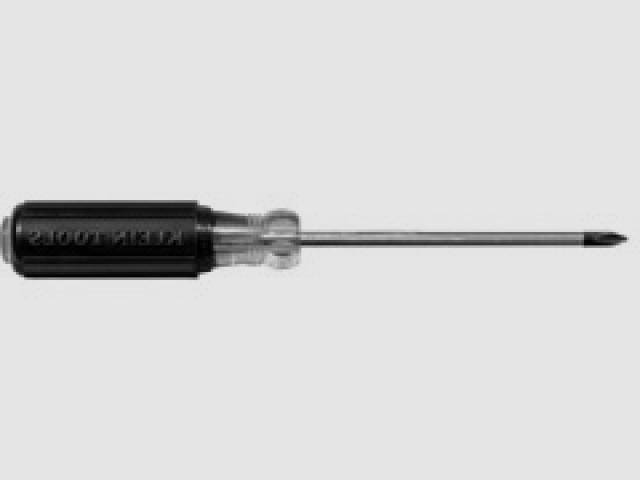Screwdriver: (0, 201, 626, 276)
